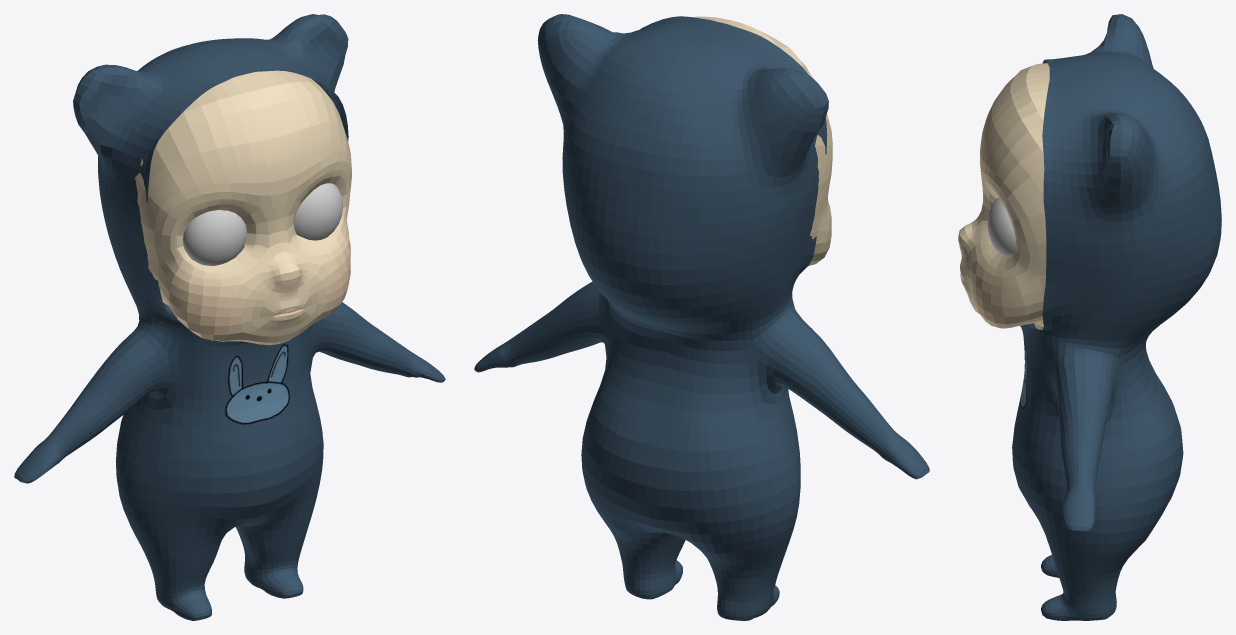
The model's file is bebe.obj.
The picture shows the model from 3 angles, left to right: view 1: azimuth 30°, elevation 25°; view 2: azimuth 150°, elevation 25°; view 3: azimuth 270°, elevation 25°; orthographic projection. The views are drawn at different scales.
Visible parts, largest first — view 1: BEBE_final_para_corto:Cuerpo_retopo; view 2: BEBE_final_para_corto:Cuerpo_retopo; view 3: BEBE_final_para_corto:Cuerpo_retopo.
Part boxes in pixels (x1,y1,x2,y2): BEBE_final_para_corto:Cuerpo_retopo: (14, 14, 445, 620); BEBE_final_para_corto:Cuerpo_retopo: (474, 14, 929, 620); BEBE_final_para_corto:Cuerpo_retopo: (958, 14, 1221, 620).
Size of the model in its own units: 17.62 by 21.38 by 9.71.
